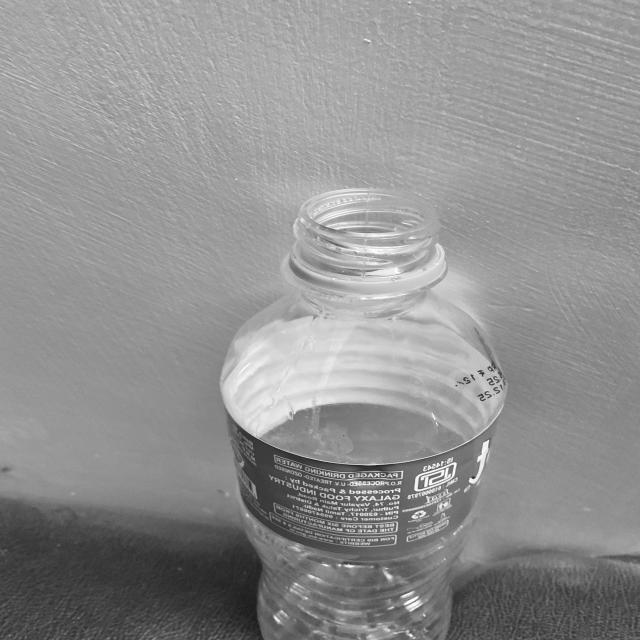open-cap: (284, 184, 450, 296)
